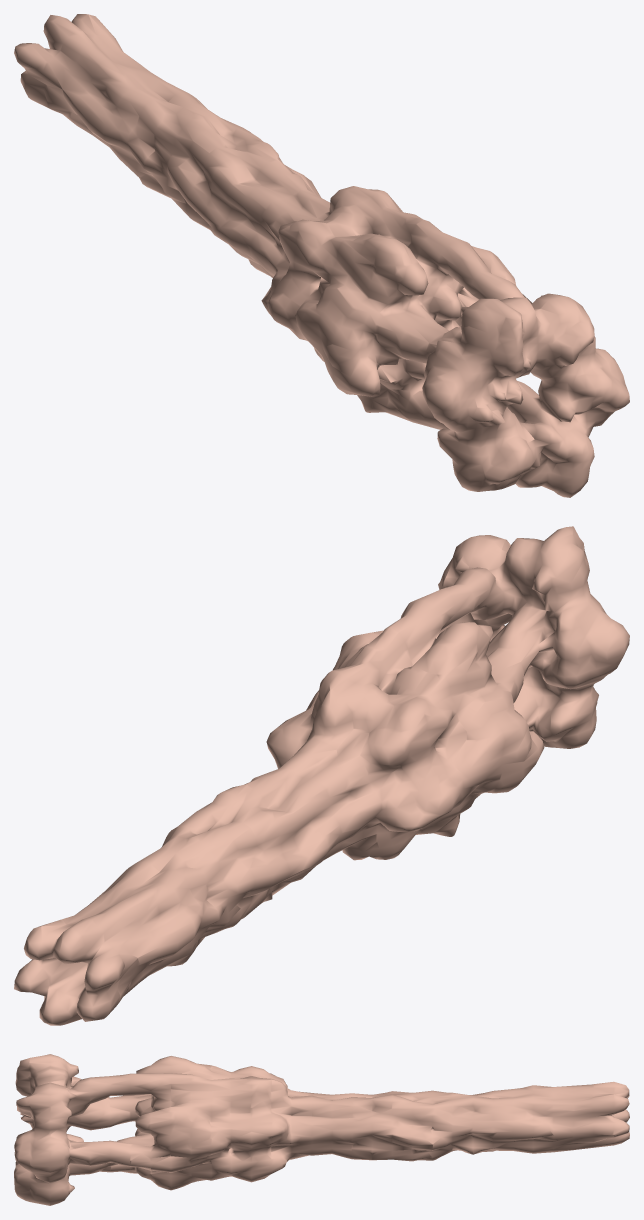
File: GAG.dae
The picture shows the model from 3 angles, top to bottom: view 1: azimuth 30°, elevation 25°; view 2: azimuth 150°, elevation 25°; view 3: azimuth 270°, elevation 25°; orthographic projection. The views are drawn at different scales.
Parts seen in each view (by area): view 1: CoarseMS_hiv_gag; view 2: CoarseMS_hiv_gag; view 3: CoarseMS_hiv_gag.
Boxes of the visible parts, x1,y1,x2,y2 form: CoarseMS_hiv_gag: [14, 14, 629, 497]; CoarseMS_hiv_gag: [14, 526, 629, 1025]; CoarseMS_hiv_gag: [14, 1054, 629, 1205].
Size of the model in its own units: 96.81 by 96.01 by 410.
